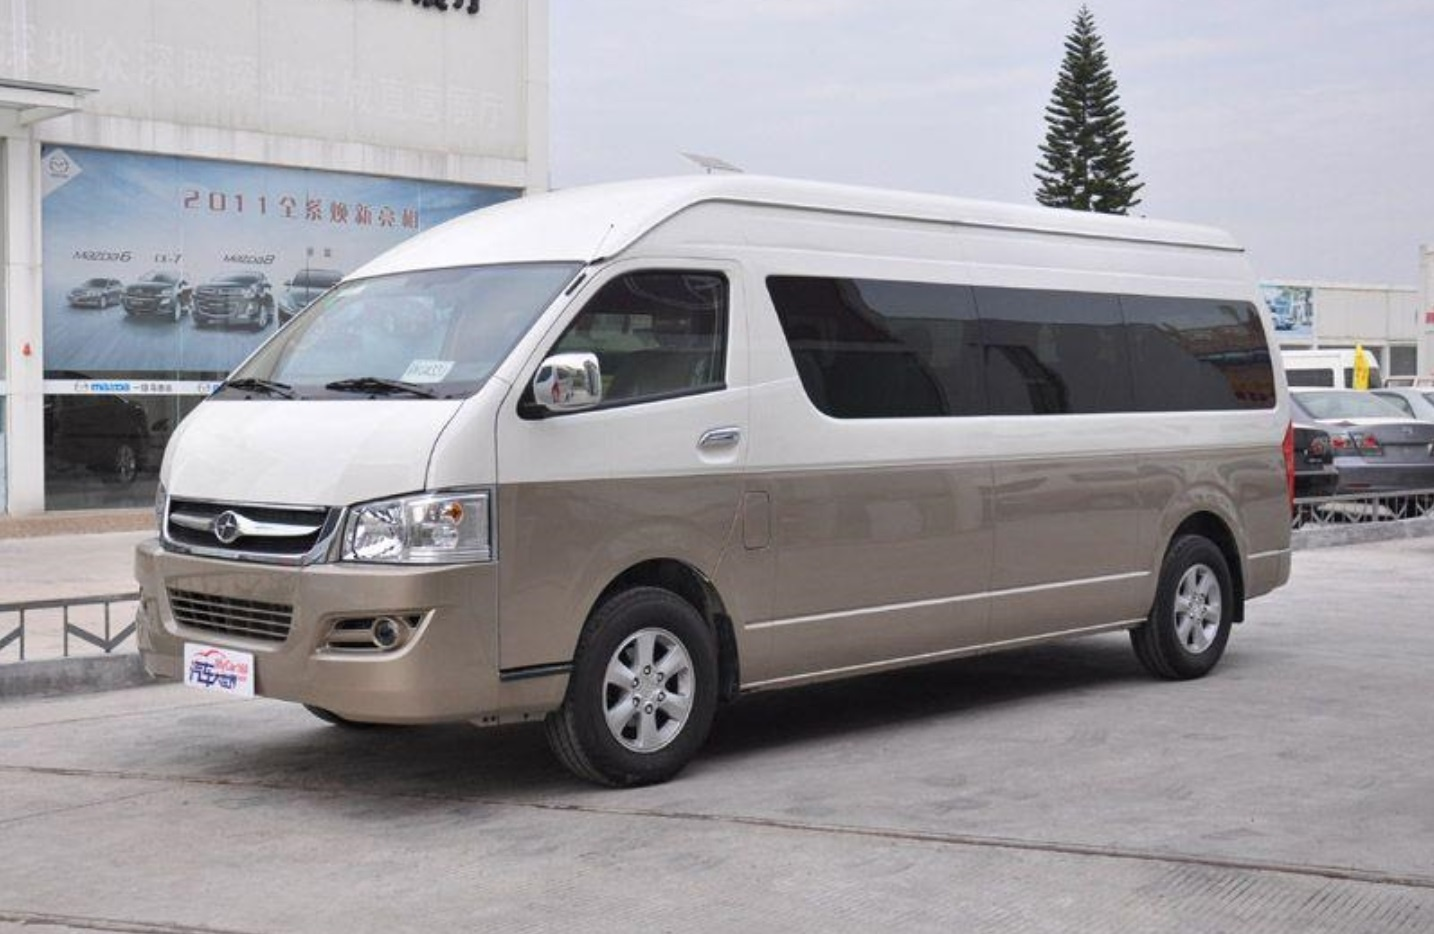minibus: (132, 164, 1305, 780)
